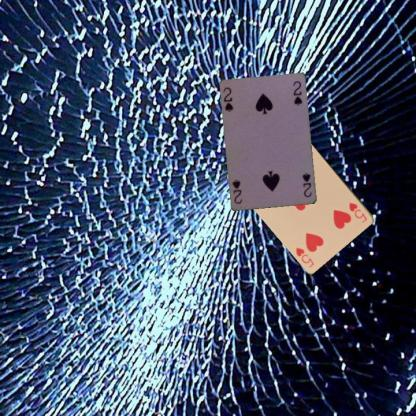2s: (220, 85, 235, 113), (300, 170, 313, 199)
5h: (346, 200, 368, 224)
